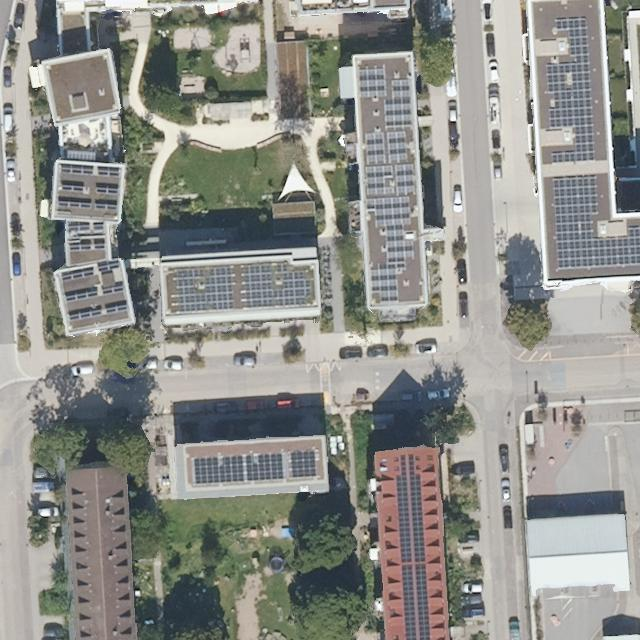PV: (362, 128, 418, 305), (548, 170, 639, 273), (544, 13, 597, 165), (393, 451, 432, 637), (189, 446, 319, 486), (238, 262, 317, 310), (173, 263, 237, 313), (381, 77, 416, 130), (62, 281, 127, 305), (58, 261, 122, 284), (66, 302, 130, 323), (355, 64, 389, 102), (54, 197, 119, 213), (57, 163, 122, 179), (56, 182, 121, 196), (65, 240, 108, 254), (66, 223, 107, 235)
